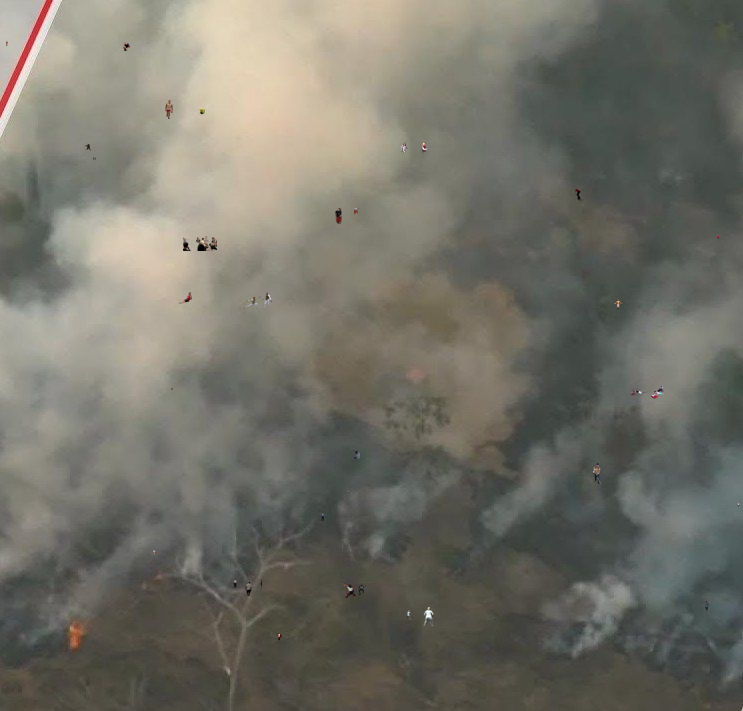Human: (25, 160, 40, 209), (407, 607, 434, 626), (183, 236, 217, 251), (233, 579, 262, 596), (335, 207, 364, 224), (243, 292, 272, 309), (631, 386, 664, 399), (400, 142, 428, 155), (342, 582, 364, 598), (592, 463, 601, 484), (184, 108, 205, 116), (179, 292, 192, 304), (165, 100, 173, 119), (614, 299, 623, 310), (575, 189, 583, 201), (275, 631, 282, 641), (703, 601, 709, 612), (123, 42, 130, 51), (85, 142, 91, 151), (354, 451, 360, 460), (717, 233, 725, 239), (321, 512, 324, 521), (153, 550, 157, 556), (737, 502, 740, 507), (6, 41, 8, 46), (93, 157, 96, 160), (171, 387, 173, 391), (348, 490, 350, 493), (269, 544, 270, 548)
